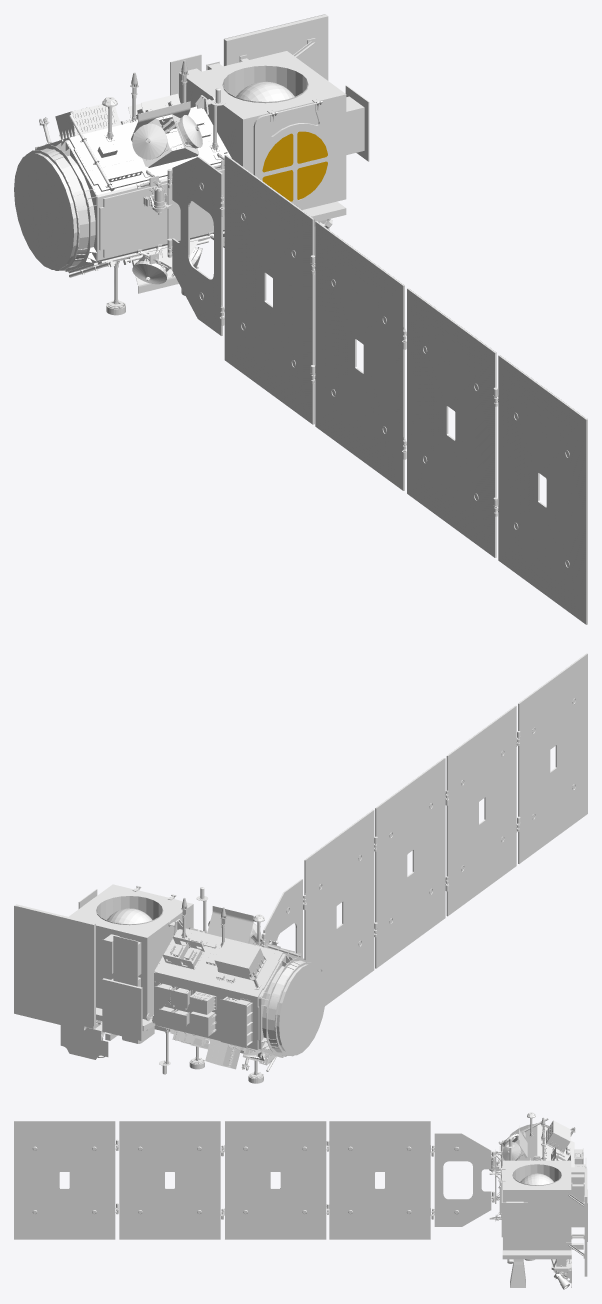
The model's file is ICESat_2_C.glb.
3 views of the same model, one above another, from view 1: azimuth 30°, elevation 25°; view 2: azimuth 150°, elevation 25°; view 3: azimuth 270°, elevation 25° (orthographic). The views are drawn at different scales.
Visible parts, largest first — view 1: SA Panels, Door Hinge-2@P-270_0_1p, SA Bracket 1, Bus Ring, Bus Panels-5, Bus Panels-6, Radiator, Atlas PL Panel-6, Atlas PL Panel-3, Bus Ring 2, Reaction Wheels, Bus Structure@sRPYy{DROP}-1000_0_1000p0_0_1 (+9 smaller); view 2: SA Panels, Radiator reflector, Payload Reflectors, Bus Ring, Bus Panels-1, Atlas PL Panel-6, Bus Structure@sRPYy{DROP}-1000_0_1000p0_0_1, Bus Ring 2, SA Bracket 1, Bus Panels-2, Atlas PL Panel-2, Atlas PL (+10 smaller); view 3: SA Front panels 1, SA Bracket 1, Atlas PL Panel-4, SA Panels, Atlas PL Panel-6, Payload Reflectors, Atlas components, Atlas deck, Atlas inside drum, Sc Brackets, Radiator, Atlas cone (+9 smaller).
Part boxes in pixels (box(x1,y1,x2,y2)): SA Panels: box(224, 155, 587, 624); Door Hinge-2@P-270_0_1p: box(253, 100, 335, 207); SA Bracket 1: box(172, 156, 222, 335); Bus Ring: box(14, 153, 77, 269); Bus Panels-5: box(99, 169, 224, 257); Bus Panels-6: box(71, 109, 227, 191); Radiator: box(224, 14, 328, 80); Atlas PL Panel-6: box(186, 51, 345, 119); Atlas PL Panel-3: box(243, 94, 346, 209); Bus Ring 2: box(25, 141, 96, 271); Reaction Wheels: box(132, 115, 202, 284); Bus Structure@sRPYy{DROP}-1000_0_1000p0_0_1: box(36, 106, 224, 273); SA Panels: box(305, 653, 587, 1005); Radiator reflector: box(14, 906, 93, 1030); Payload Reflectors: box(78, 889, 142, 1040); Bus Ring: box(276, 964, 325, 1055); Bus Panels-1: box(157, 930, 281, 994); Atlas PL Panel-6: box(68, 884, 192, 937); Bus Structure@sRPYy{DROP}-1000_0_1000p0_0_1: box(154, 928, 296, 1065); Bus Ring 2: box(262, 955, 316, 1056); SA Bracket 1: box(263, 879, 302, 958); Bus Panels-2: box(154, 976, 259, 1046); Atlas PL Panel-2: box(96, 925, 147, 1019); Atlas PL: box(147, 904, 193, 1016); SA Front panels 1: box(14, 1121, 430, 1239); SA Bracket 1: box(434, 1133, 491, 1226); Atlas PL Panel-4: box(503, 1190, 571, 1250); SA Panels: box(14, 1121, 430, 1216); Atlas PL Panel-6: box(503, 1160, 571, 1189); Payload Reflectors: box(501, 1158, 587, 1241); Atlas components: box(506, 1167, 585, 1249); Atlas deck: box(502, 1228, 571, 1259); Atlas inside drum: box(512, 1164, 561, 1185); Sc Brackets: box(489, 1149, 584, 1268); Radiator: box(584, 1168, 587, 1276); Atlas cone: box(510, 1259, 525, 1287).
Size of the model in its own units: 3.8 by 2.48 by 10.06.
